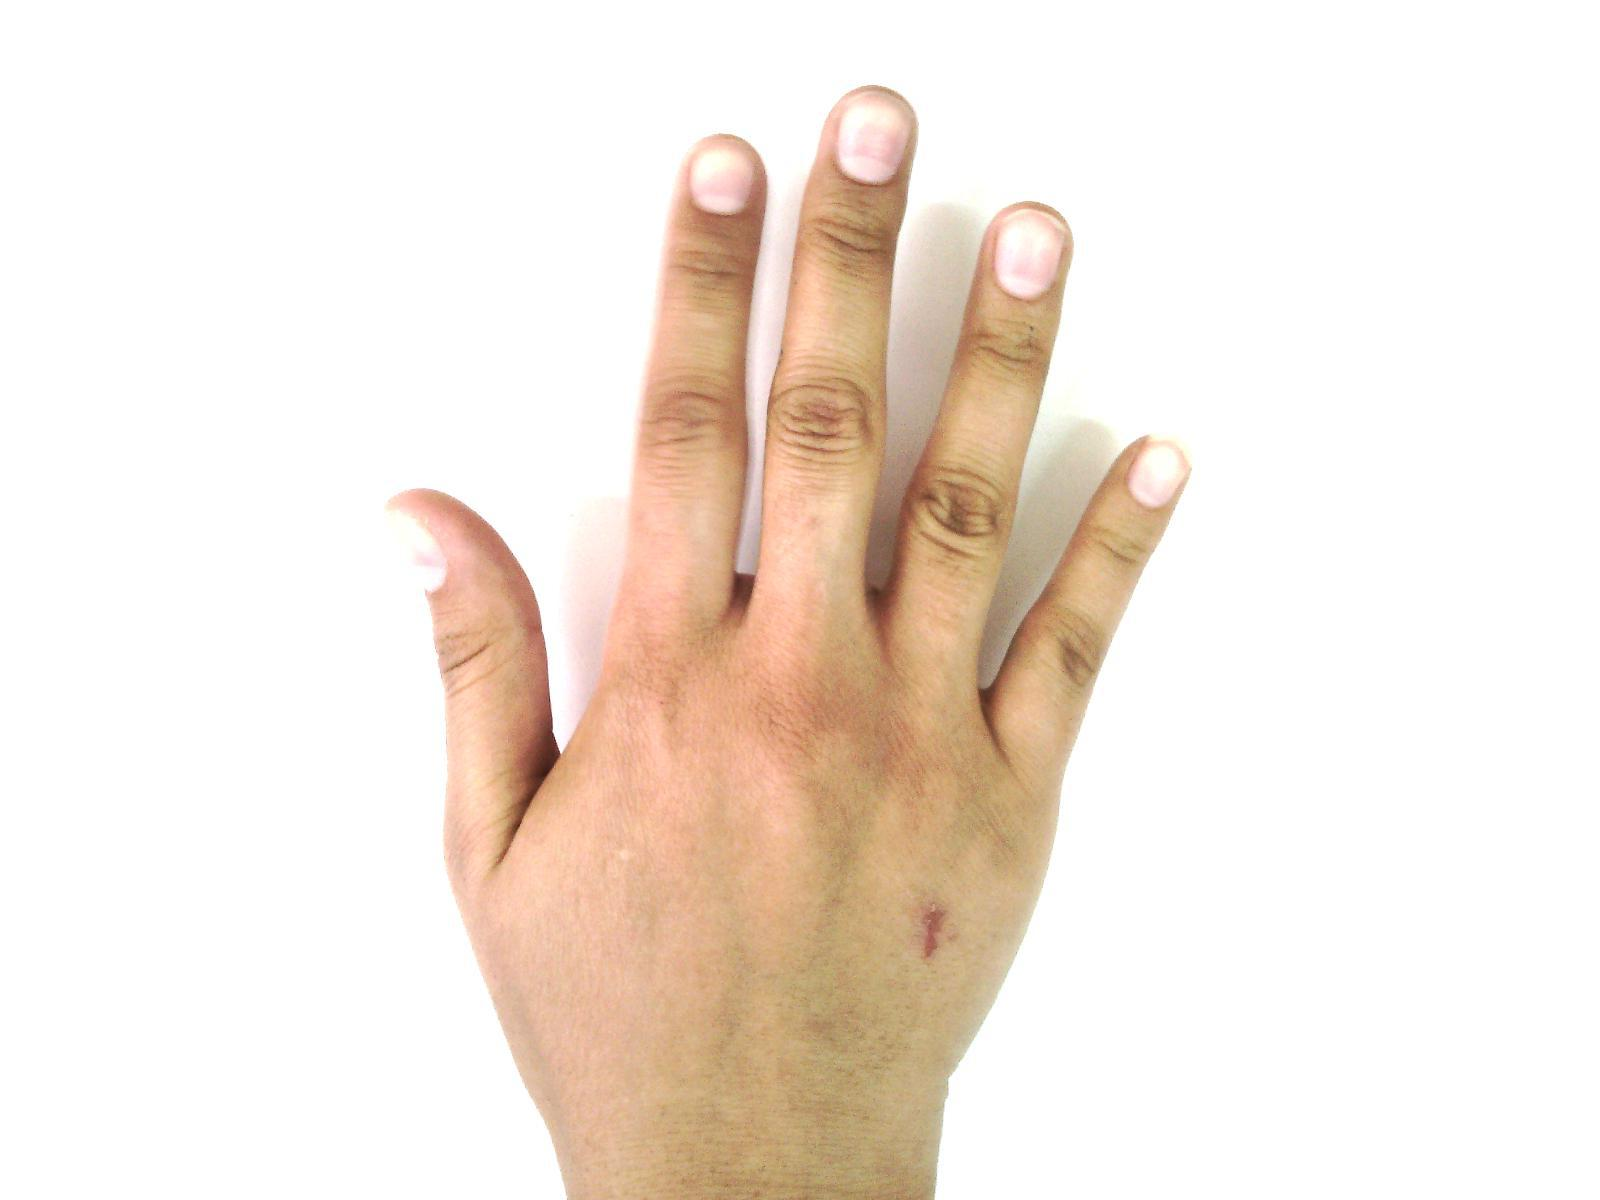hand: (396, 86, 1191, 1170)
